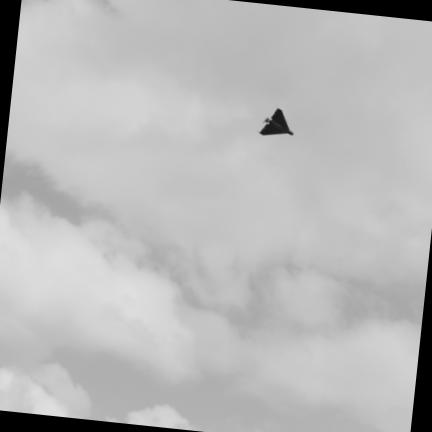Shahed: (259, 109, 292, 135)
